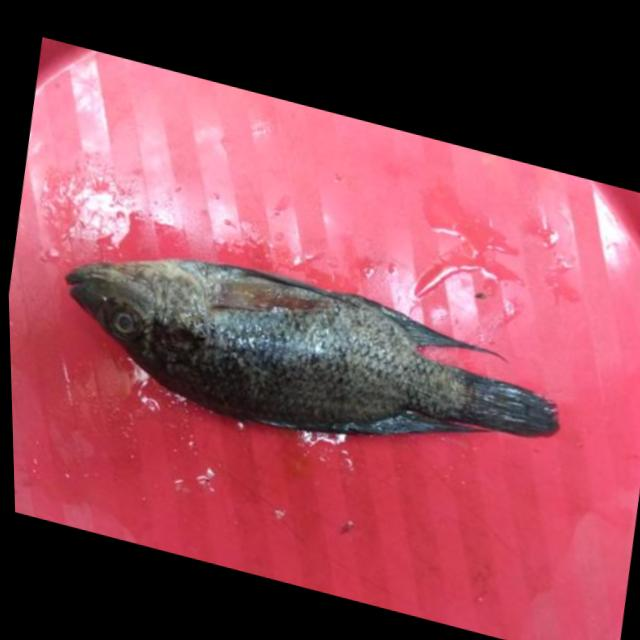Tilapia: (45, 215, 570, 506)
